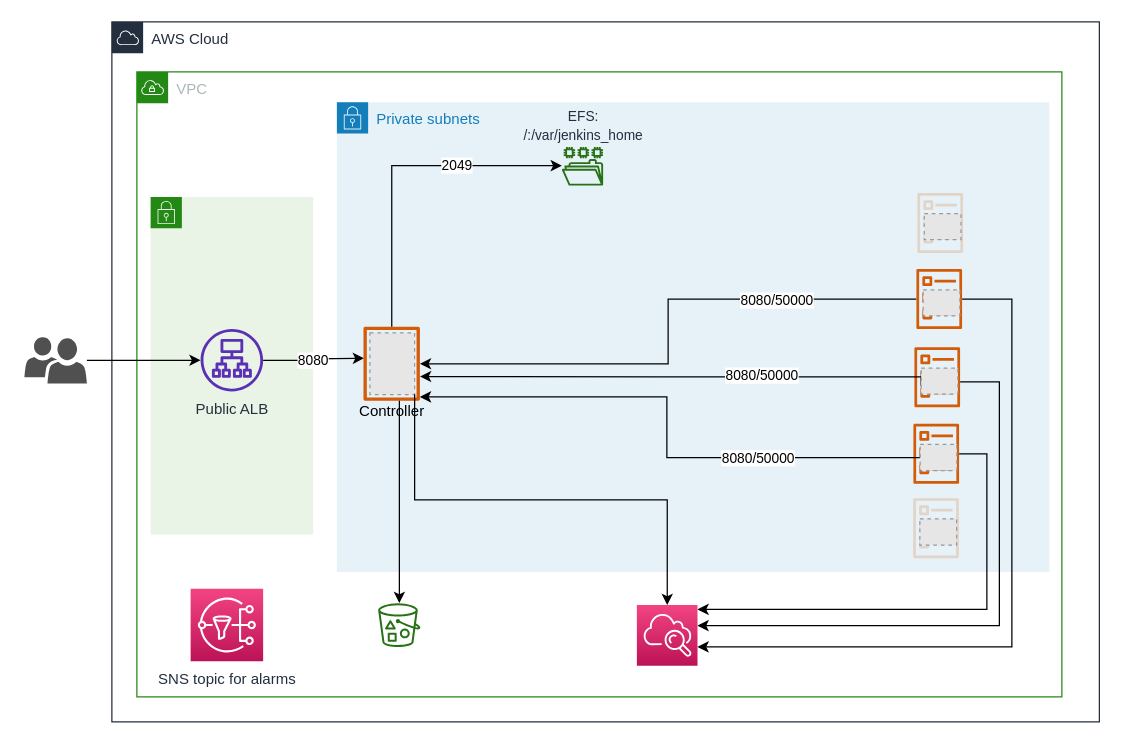
The diagram is 1121 pixels wide and 744 high, and some of its shapes have lost their labels. Grey dashed boxes stand in for pictures. The box of each missing label's shape, as (x1, y1, x2, y2) in pixels:
Cloudwatch: logs: (636, 604, 698, 666)
End users: (24, 336, 86, 383)
Initial Configuration as Code: (378, 602, 420, 646)
Public subnets: (149, 196, 313, 534)
